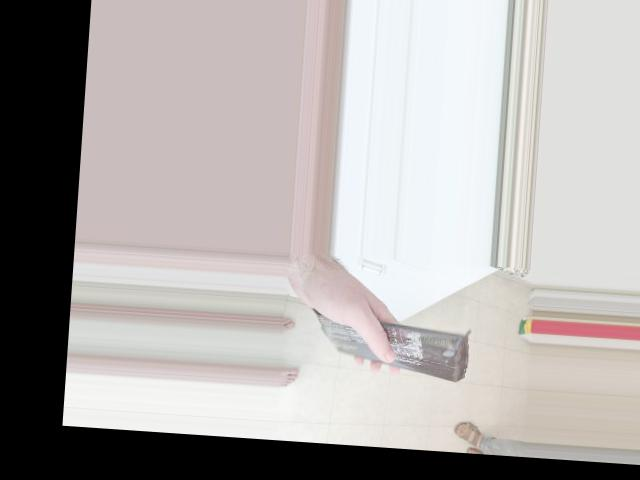chocolate: (300, 309, 472, 382)
